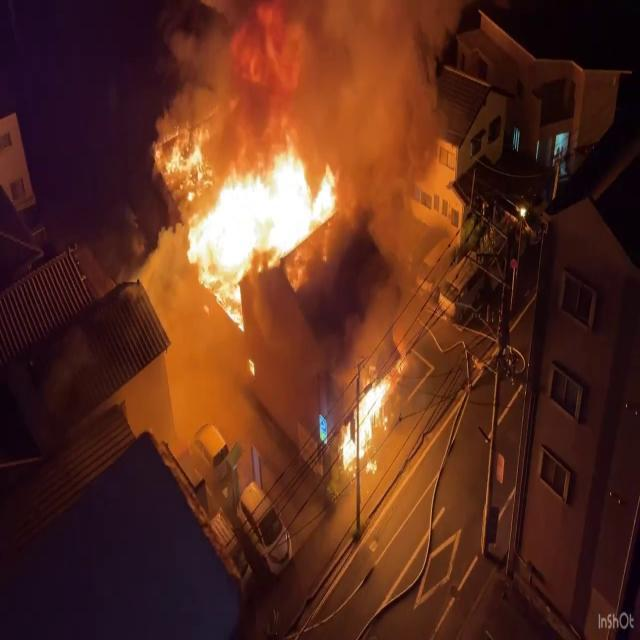Fire: (156, 115, 347, 333), (330, 357, 398, 482)
Smoke: (173, 0, 456, 174)
